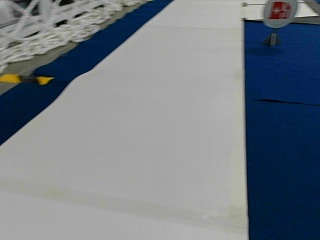battery: (262, 0, 296, 27)
